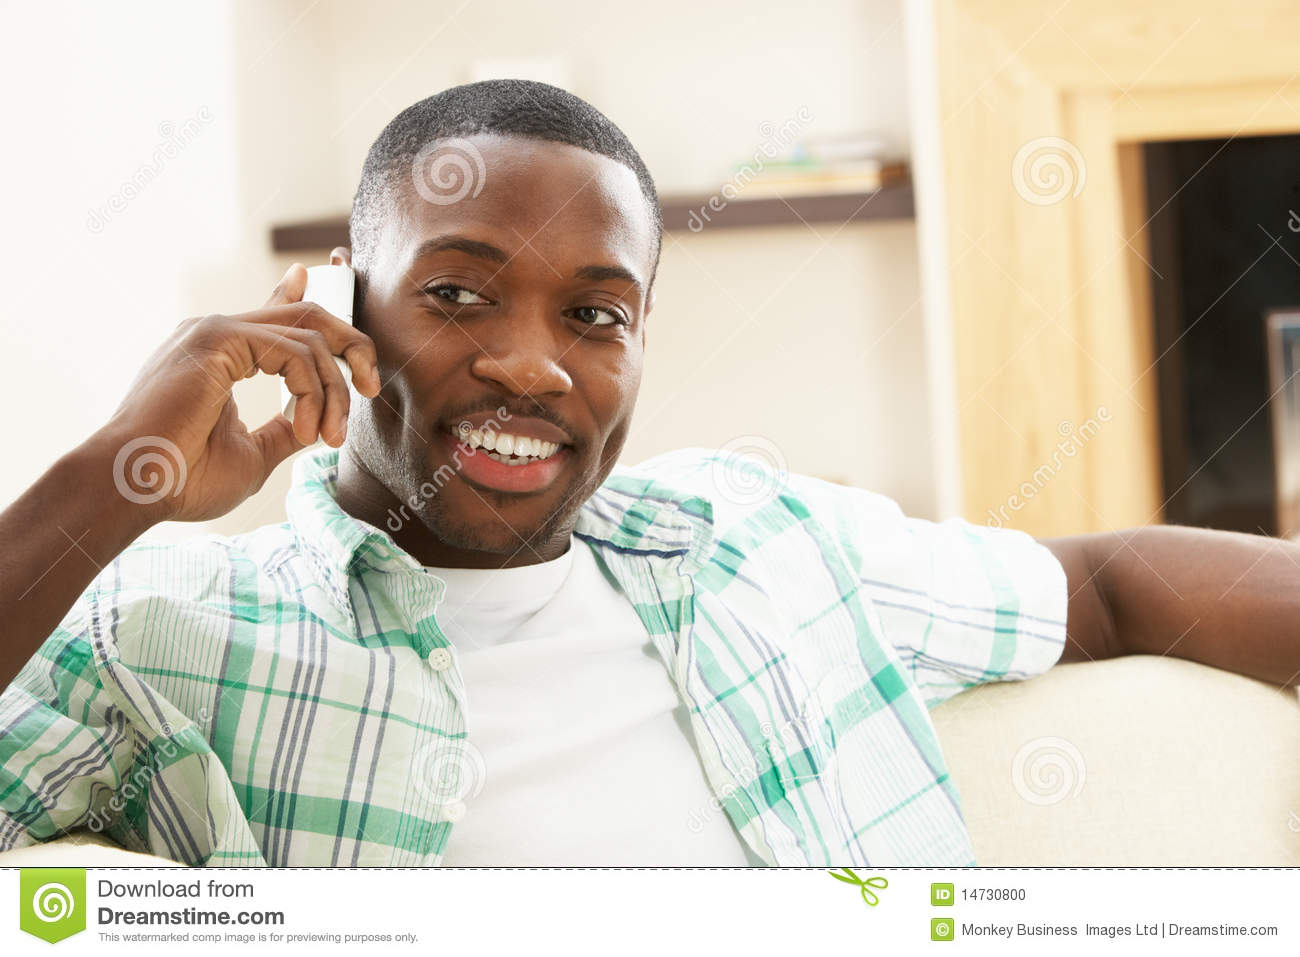phone: (278, 257, 362, 449)
talk: (107, 228, 649, 563)
